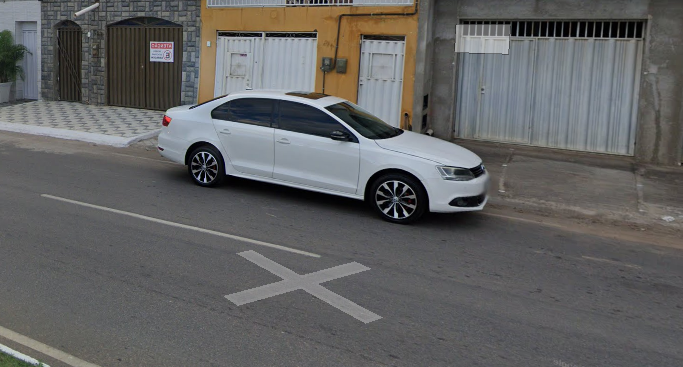car: (154, 81, 494, 237)
